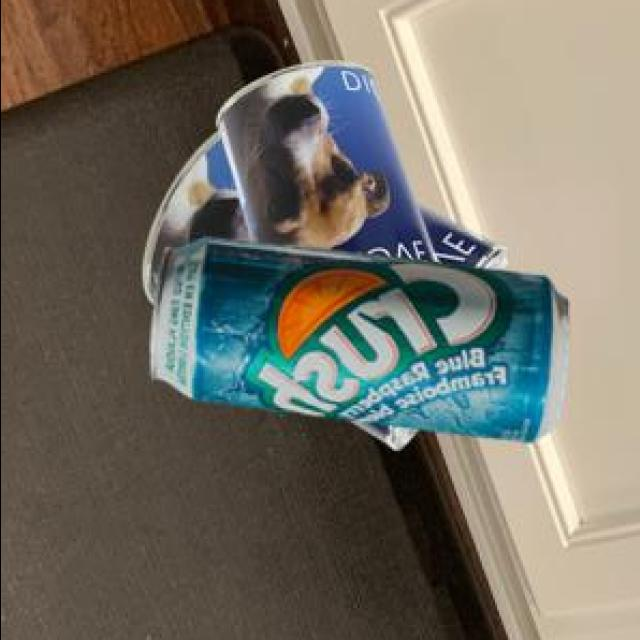logam: (145, 134, 512, 454), (154, 242, 570, 446), (220, 63, 439, 265)
